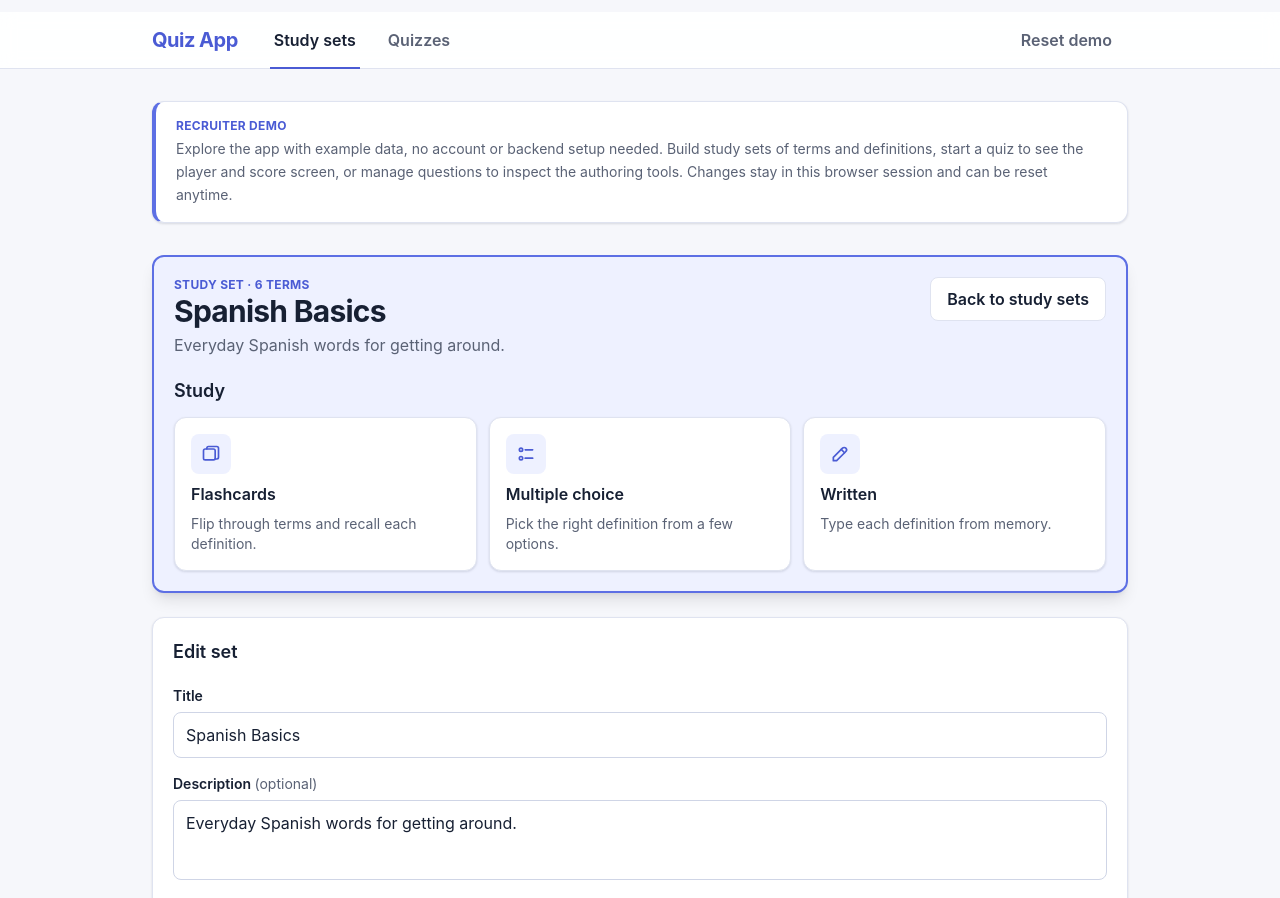
Test: HomePage study set URLs › works with ?demo=true and keeps it in the URL
The width and height of the screenshot is (1280, 898).
Expected: the field showing "Spanish Basics" is shown, x1=173 y1=712 x2=1107 y2=758
Click the button "Back to study sets": [1018, 299] box x1=930 y1=277 x2=1106 y2=321
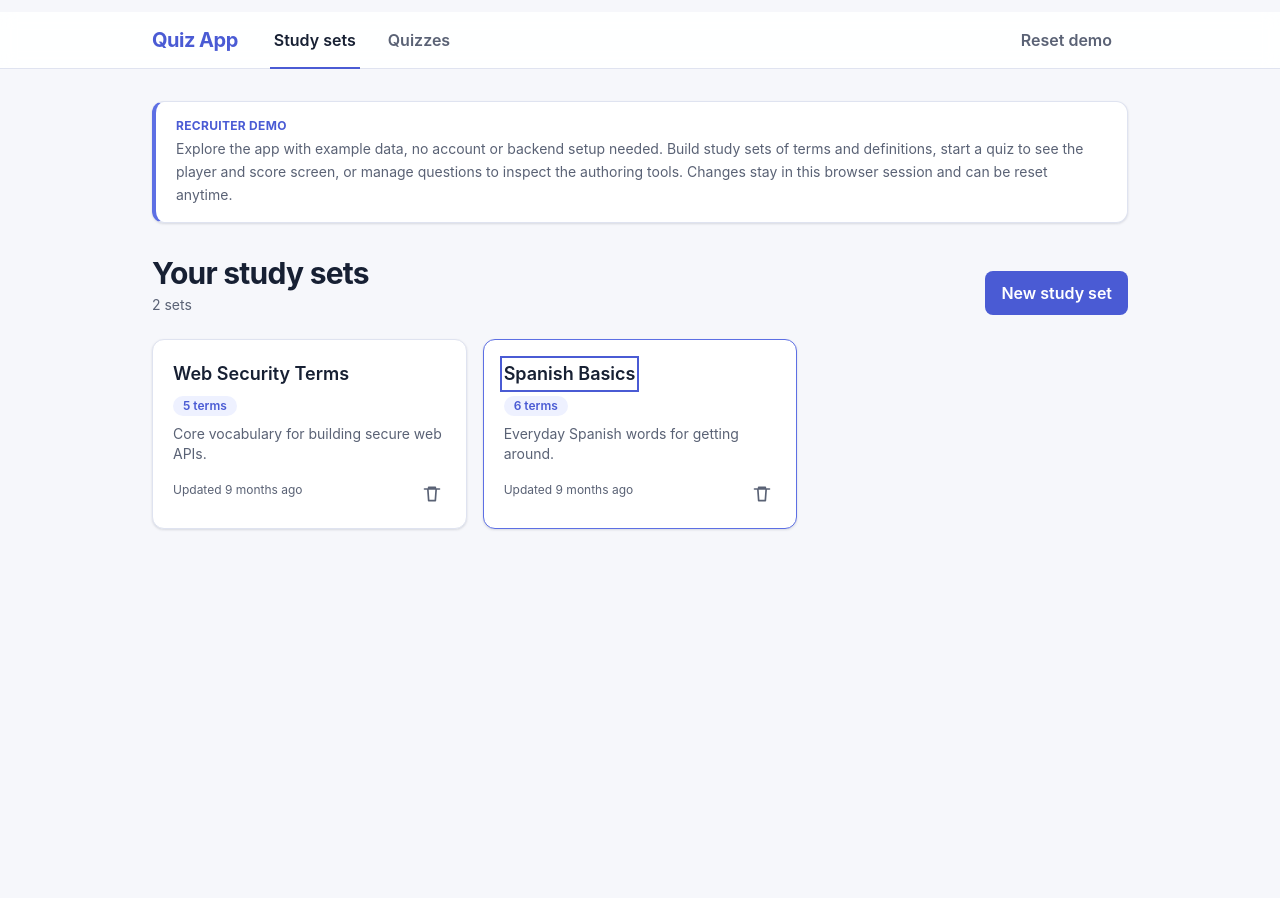
Expected: the button "Web Security Terms" is shown, x1=173 y1=360 x2=349 y2=388
